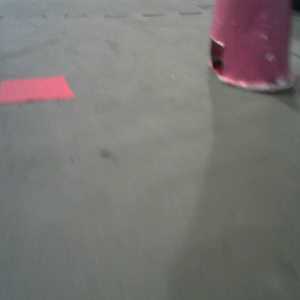right: (206, 1, 295, 92)
